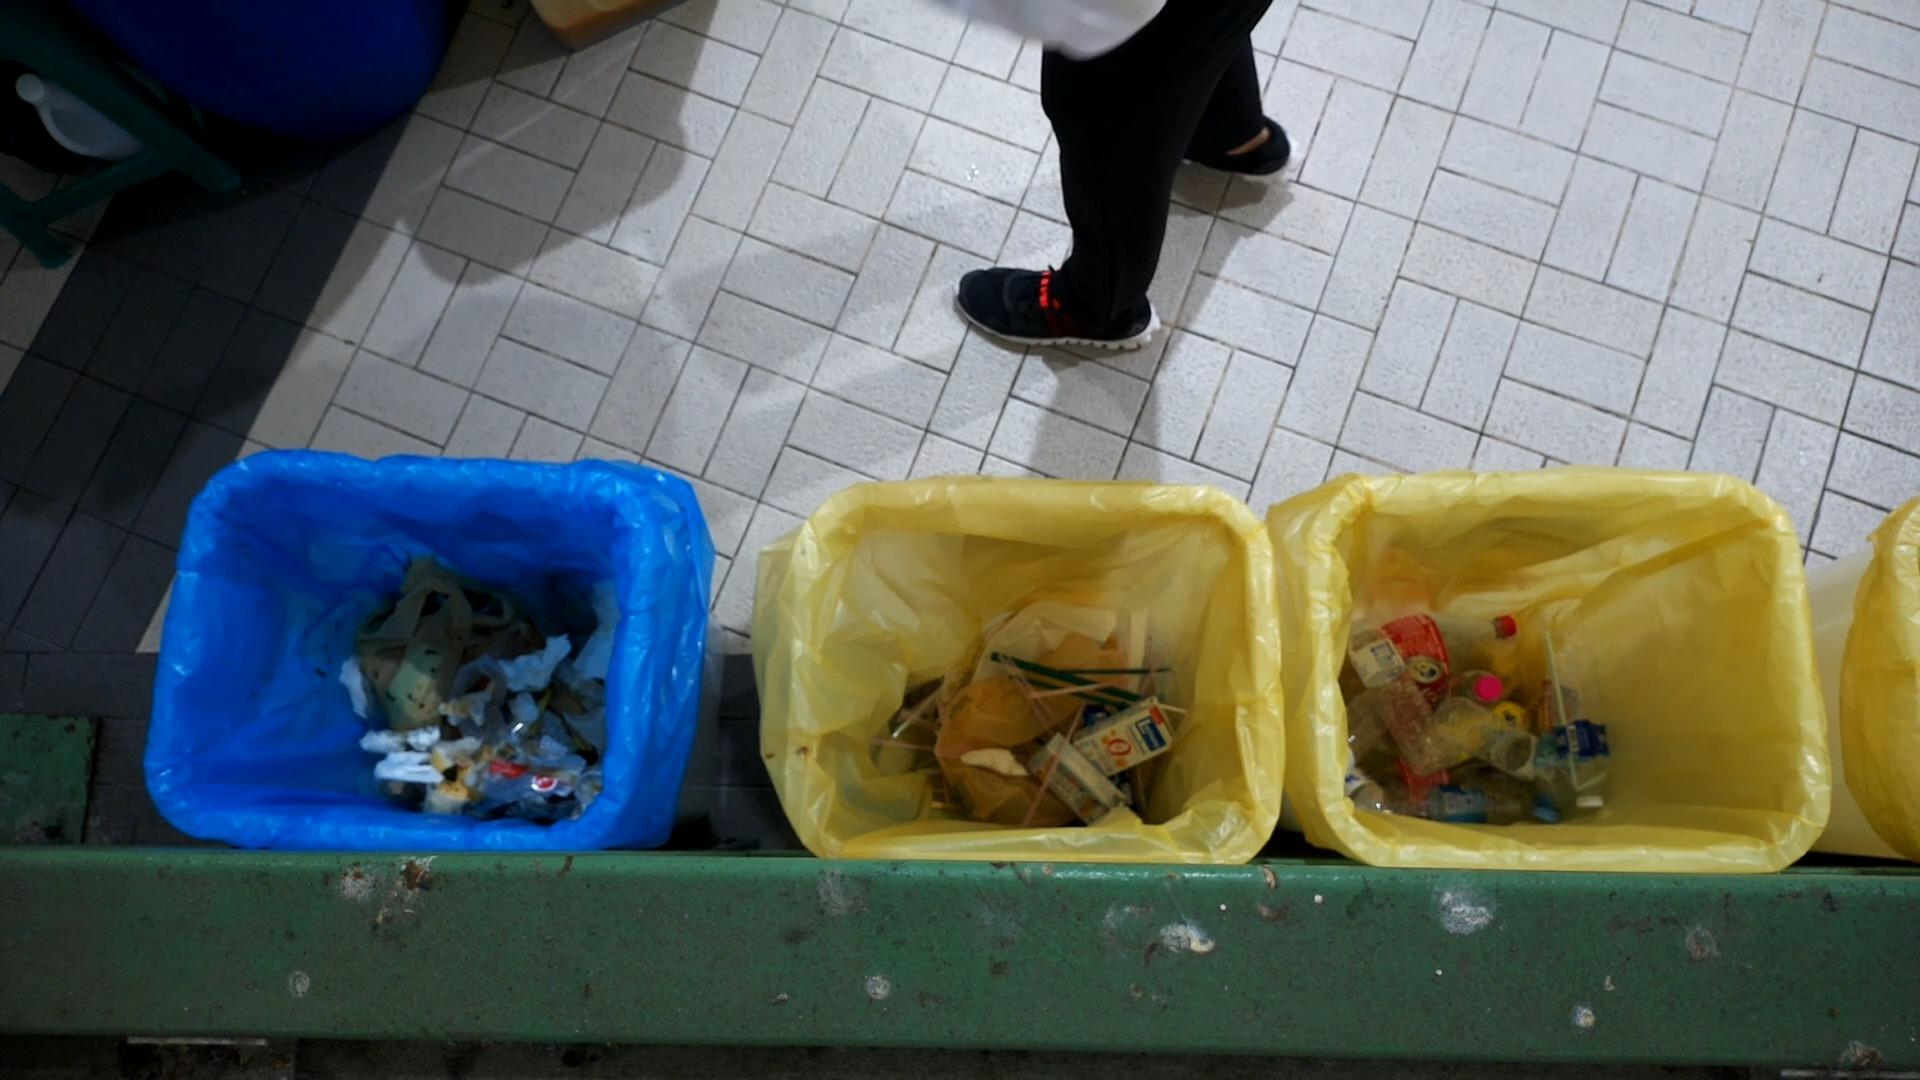can: (1408, 654, 1451, 713)
filled plastic bag: (330, 554, 462, 719)
milk carton: (1069, 683, 1179, 782), (1026, 731, 1127, 823)
plastic bag: (963, 596, 1154, 695)
plastic bottle: (1345, 609, 1452, 774), (1340, 600, 1522, 683), (1548, 628, 1618, 812), (1432, 694, 1557, 785), (1349, 777, 1548, 832)
straw: (1006, 699, 1089, 827), (1544, 630, 1604, 794), (988, 647, 1145, 708), (890, 666, 965, 736), (1055, 653, 1184, 686), (1155, 700, 1187, 713)
tissue paper: (495, 625, 597, 705), (365, 756, 455, 798), (353, 727, 443, 758), (955, 741, 1031, 773)
